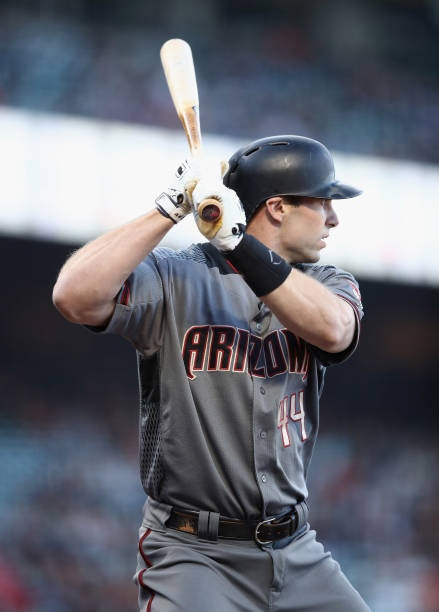bita: (155, 34, 233, 219)
